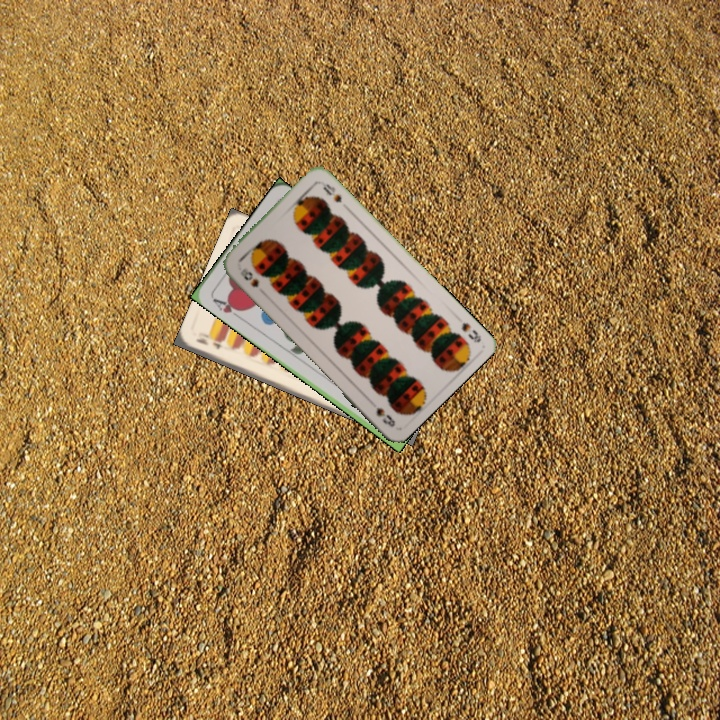E10: (192, 334, 225, 352)
HA: (208, 294, 245, 322)
S8: (458, 318, 484, 345), (236, 264, 262, 290)
